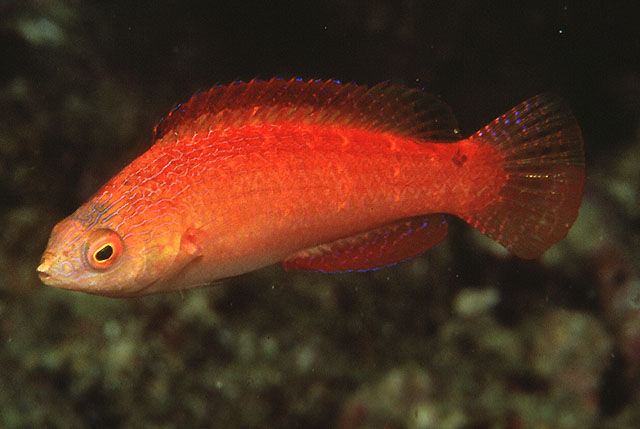fish: (36, 77, 587, 299)
